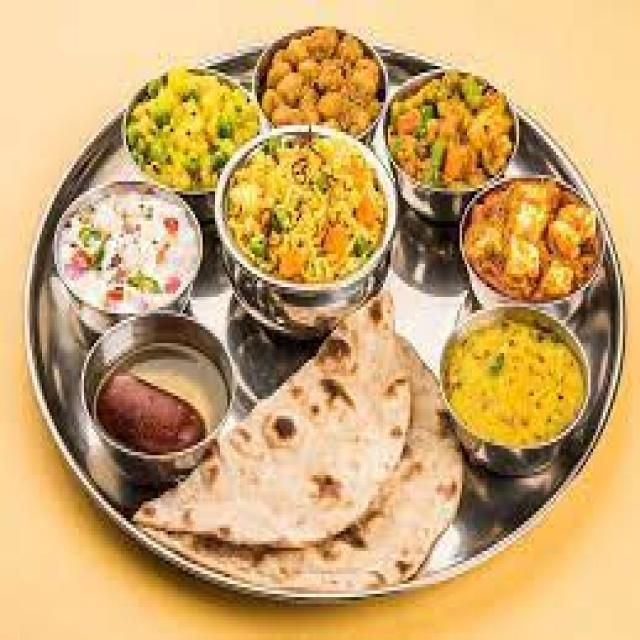curd: (47, 180, 201, 319)
dal: (442, 305, 599, 465)
raita: (48, 180, 206, 321)
rice: (217, 124, 386, 302)
roti: (216, 293, 465, 596)
sweet: (95, 336, 227, 460)
veg: (443, 163, 606, 324), (253, 21, 388, 131)
